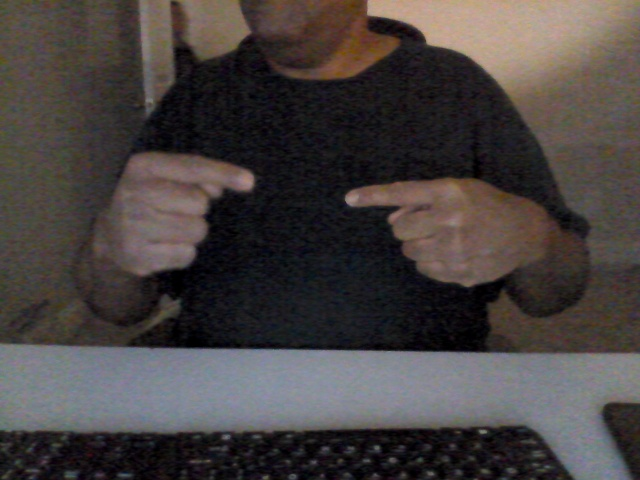go: (105, 144, 545, 297)
